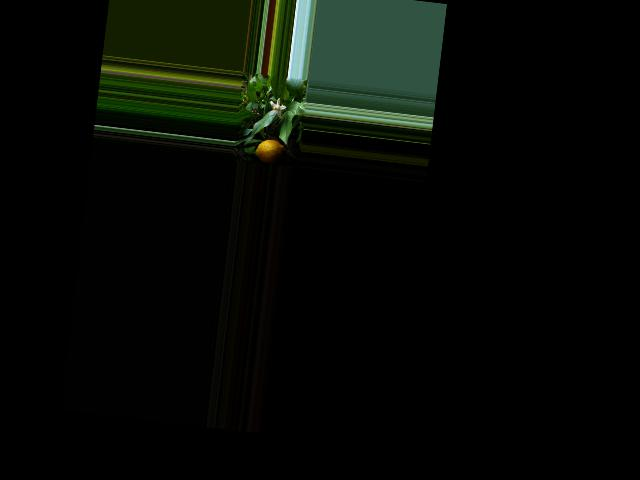lemon: (253, 134, 287, 165)
